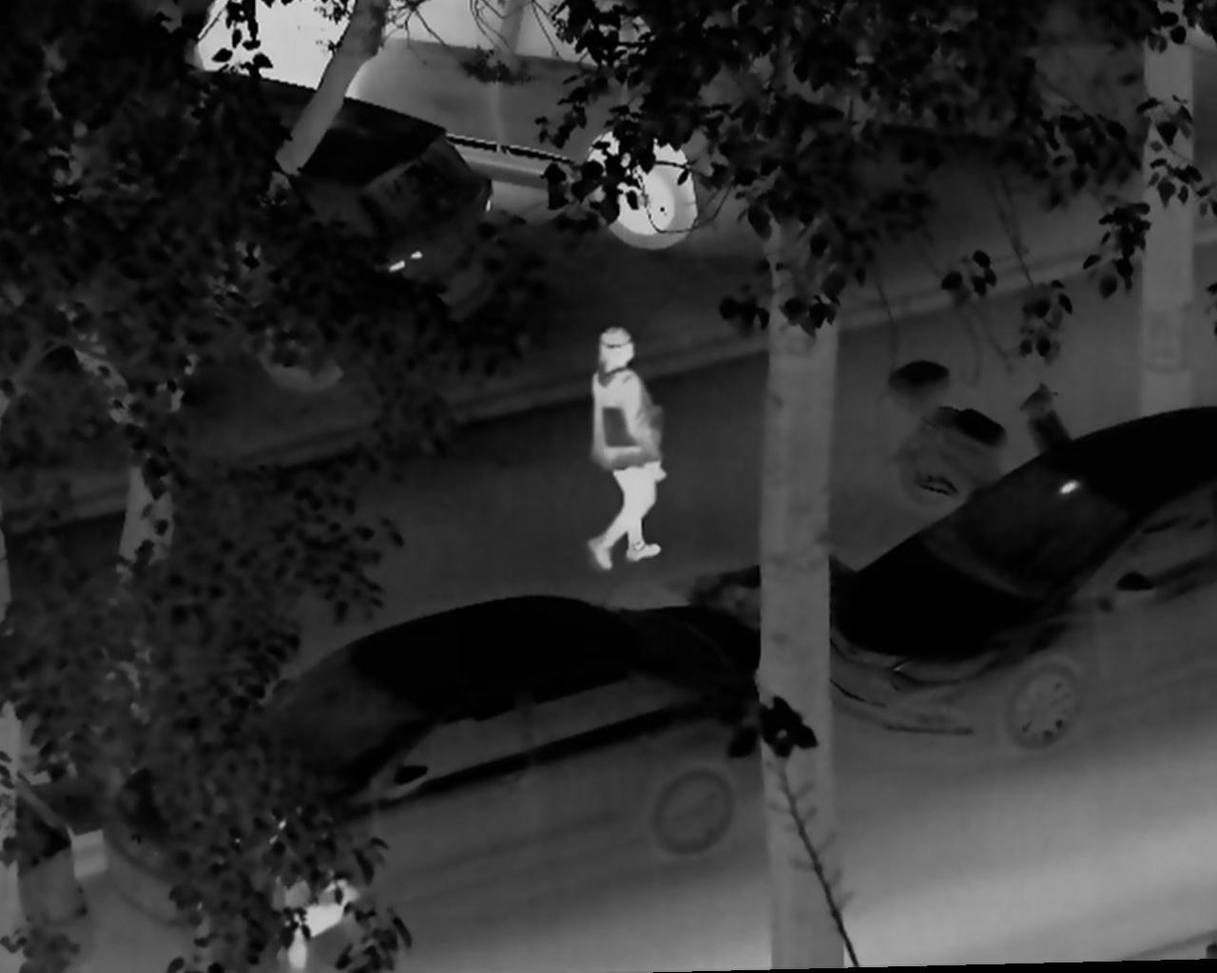person: (577, 320, 675, 577), (245, 818, 372, 973)
